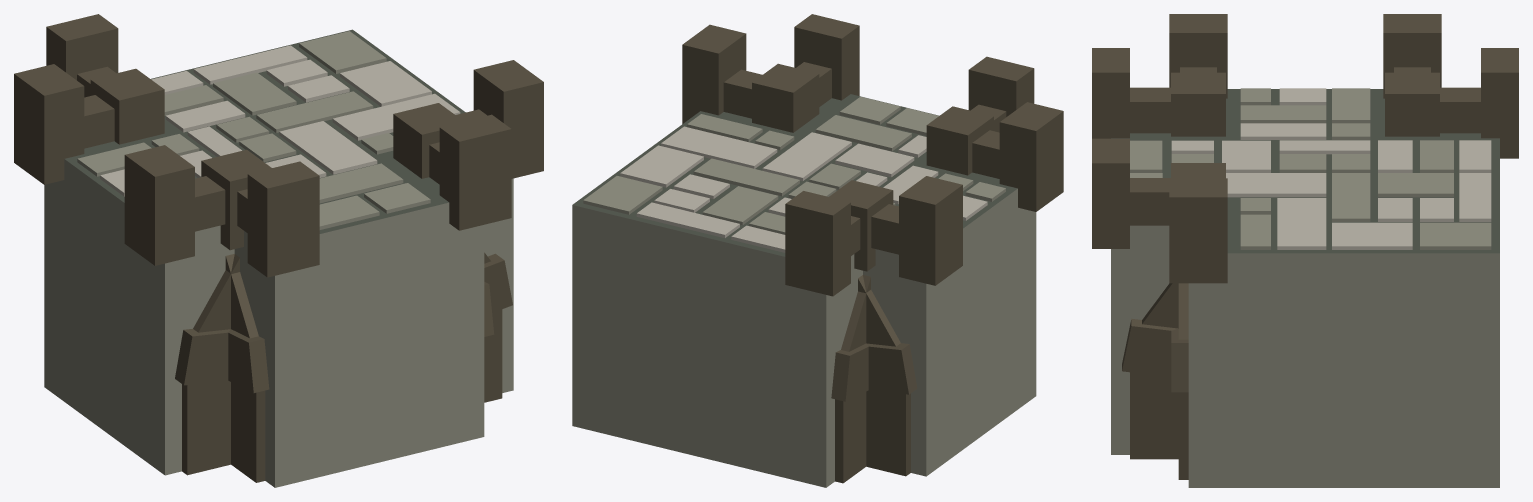
File: FourWayQuarterFilled.fbx
The picture shows the model from 3 angles, left to right: view 1: azimuth 30°, elevation 25°; view 2: azimuth 150°, elevation 25°; view 3: azimuth 270°, elevation 25°; orthographic projection. The views are drawn at different scales.
Visible parts, largest first — view 1: Stone Bridge - Four-way Quarter Filled; view 2: Stone Bridge - Four-way Quarter Filled; view 3: Stone Bridge - Four-way Quarter Filled.
Part boxes in pixels (left/top/right/bottom): Stone Bridge - Four-way Quarter Filled: left=14, top=14, right=543, bottom=487; Stone Bridge - Four-way Quarter Filled: left=572, top=14, right=1063, bottom=487; Stone Bridge - Four-way Quarter Filled: left=1092, top=14, right=1518, bottom=487.
Size of the model in its own units: 112 by 85.16 by 110.
